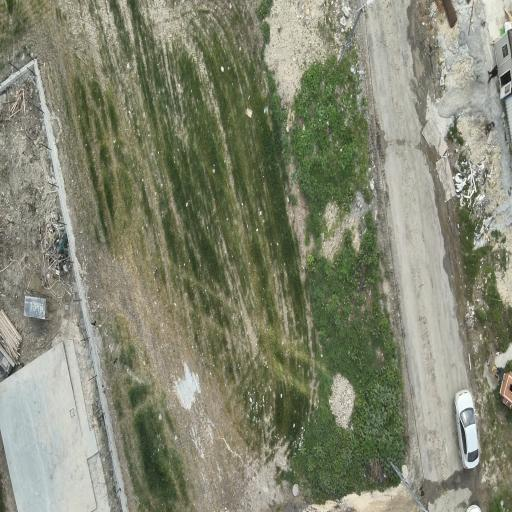car: (454, 390, 479, 468), (467, 505, 481, 511)
person: (493, 366, 504, 381), (488, 65, 497, 82)
